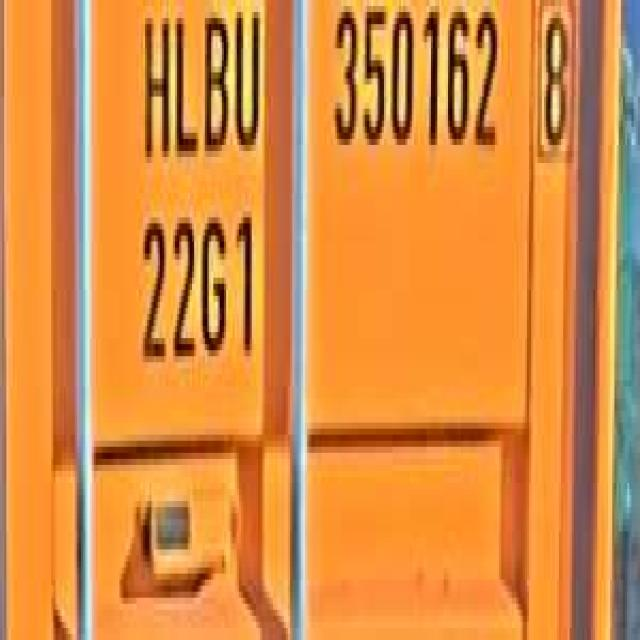dv: (531, 0, 578, 169)
owner: (136, 0, 264, 169)
serial: (326, 0, 504, 181)
size: (134, 200, 262, 380)
